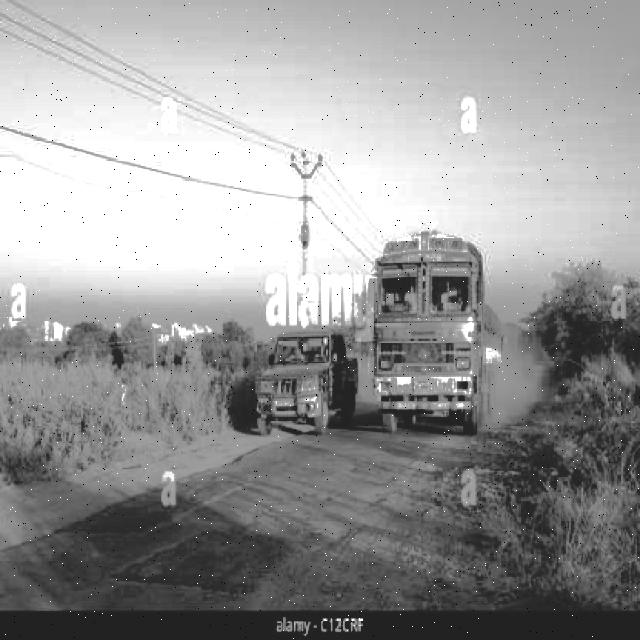HCV: (346, 243, 504, 440)
